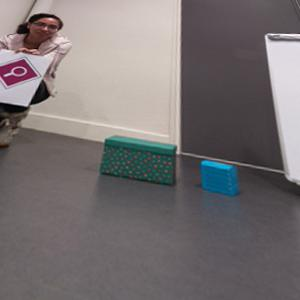search: (1, 56, 42, 89)
